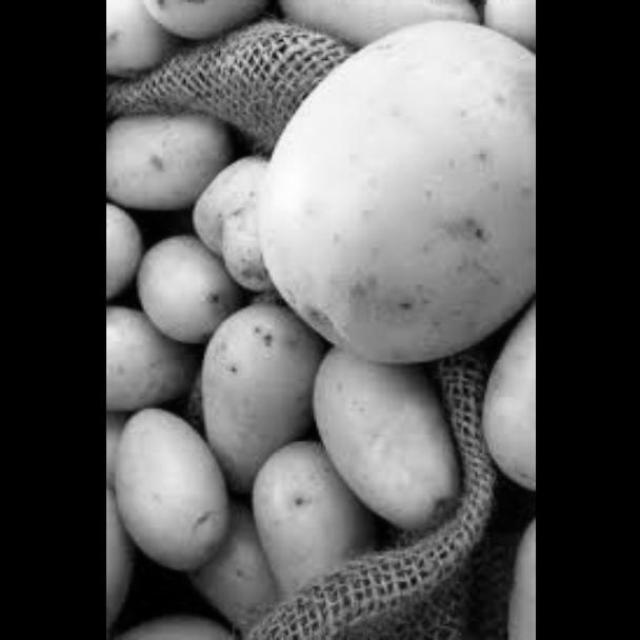khoai tay: (265, 1, 533, 362), (291, 296, 461, 531), (108, 390, 227, 590), (200, 301, 320, 493), (248, 429, 368, 609), (461, 272, 533, 503), (104, 92, 233, 212), (185, 140, 274, 302), (134, 226, 224, 353), (142, 1, 275, 60), (104, 316, 180, 408), (104, 1, 174, 90), (104, 189, 148, 318)
